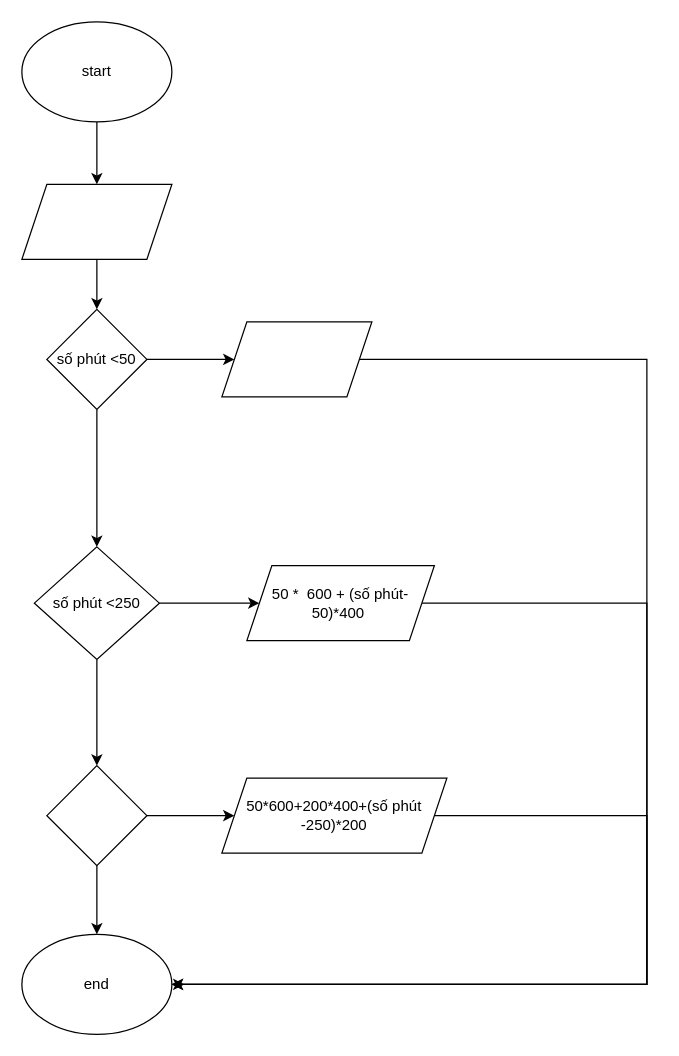
This 679x1056 diagram has some shape labels left out. The box of each missing label's shape, as (x1, y1, x2, y2) in pixels:
nhập vào số phút tình tiền điện: (21, 183, 172, 259)
số phút * 600: (221, 321, 372, 397)
số phút <450: (46, 764, 147, 866)
